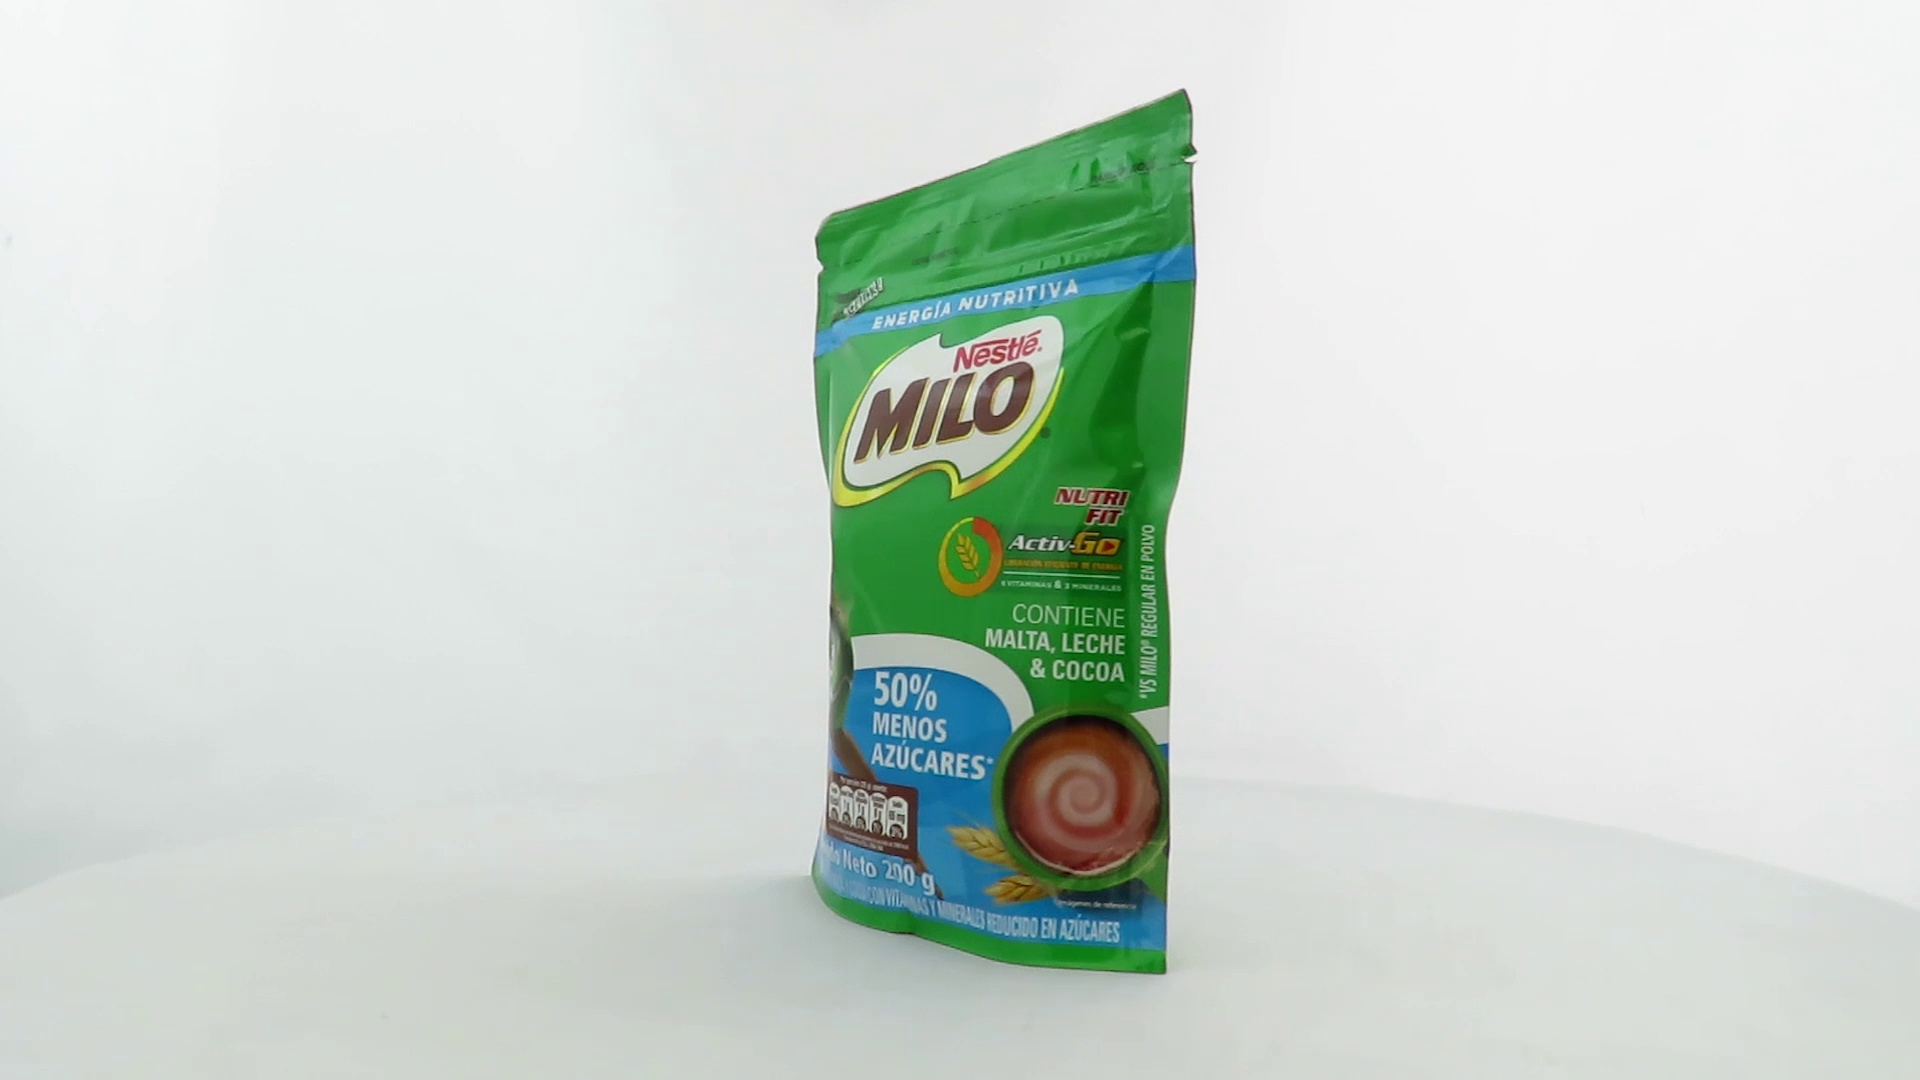COL0170205DYP20000: (748, 83, 1204, 981)
